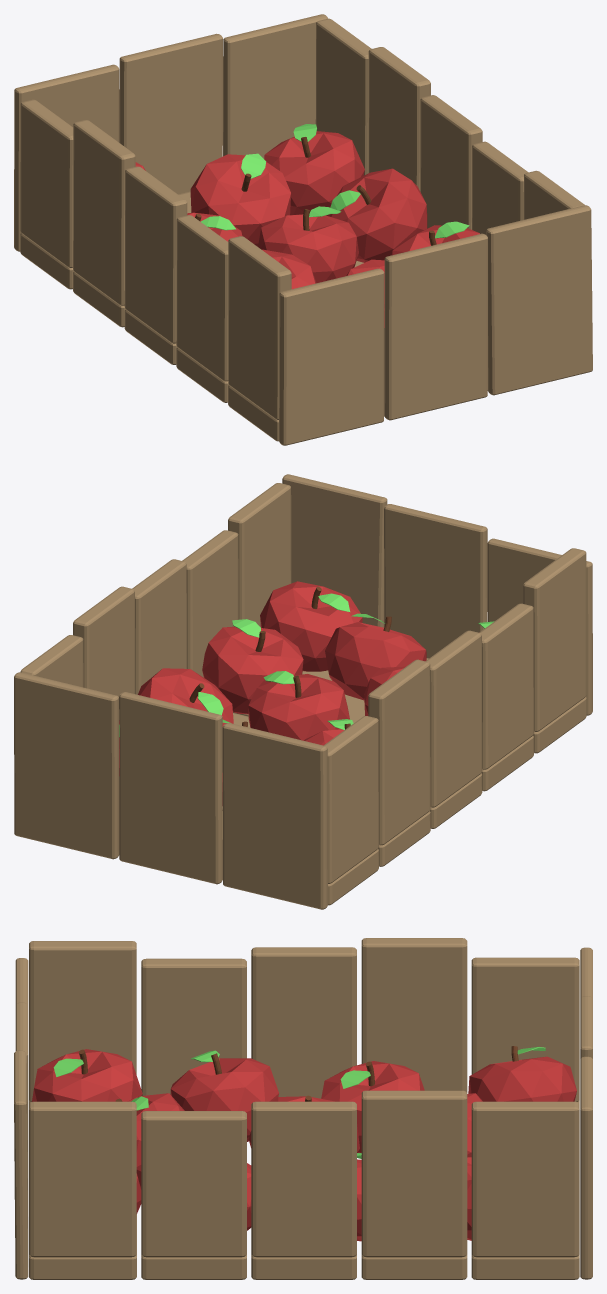
File: Apple.fbx
The picture shows the model from 3 angles, top to bottom: view 1: azimuth 30°, elevation 25°; view 2: azimuth 150°, elevation 25°; view 3: azimuth 270°, elevation 25°; orthographic projection. The views are drawn at different scales.
Parts seen in each view (by area): view 1: Icosphere.027; view 2: Icosphere.027; view 3: Icosphere.027.
Boxes of the visible parts, x1=… form: Icosphere.027: x1=14, y1=14, x2=592, y2=445; Icosphere.027: x1=14, y1=474, x2=592, y2=909; Icosphere.027: x1=14, y1=938, x2=592, y2=1279.
Bounding box in the file's own units: 159 × 84.3 × 241.
